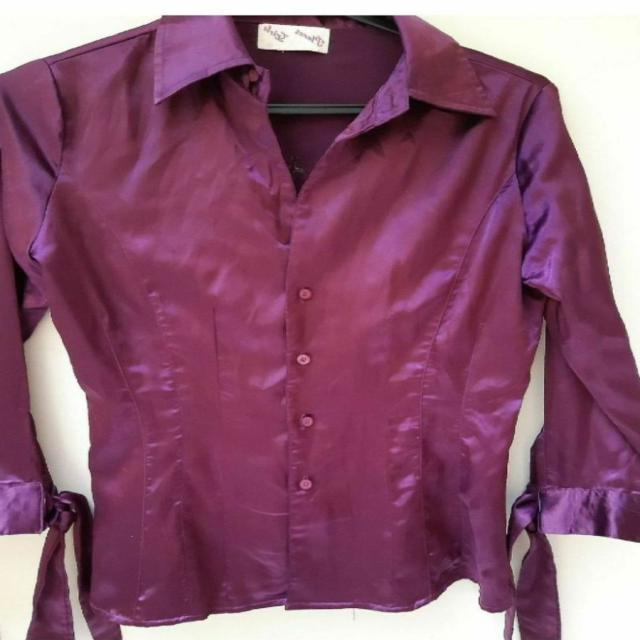long sleeve shirt: (0, 20, 640, 640)
